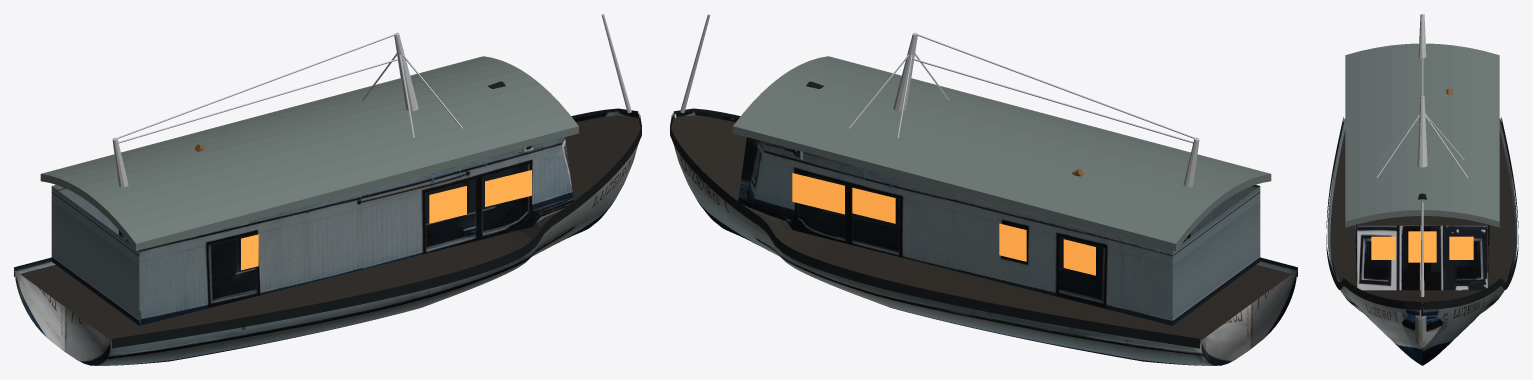
File: luzeiro.glb
3 renders of one model, left to right at view 1: azimuth 30°, elevation 25°; view 2: azimuth 150°, elevation 25°; view 3: azimuth 270°, elevation 25°, orthographic. The views are drawn at different scales.
Visible parts, largest first — view 1: teto, cabine, conves, casco, borda, vidraca.001, vidraca, mastro, estai.004, estai.005, vidraca.002; view 2: teto, cabine, conves, casco, borda.001, vidraca.003, vidraca.004, vidraca.006, vidraca.005, mastro, estai.004, estai.005; view 3: teto, cabine, conves, casco, borda, borda.001, frente.002, frente, frente.001, mastro, pau_proa, poste (+1 smaller).
Boxes of the visible parts, box(x1,y1,x2,y2) form: teto: box(40, 56, 578, 250); cabine: box(51, 137, 575, 325); conves: box(20, 115, 640, 340); casco: box(14, 111, 640, 365); borda: box(112, 113, 641, 348); vidraca.001: box(485, 170, 531, 206); vidraca: box(429, 186, 466, 223); mastro: box(394, 32, 418, 111); estai.004: box(114, 33, 396, 139); estai.005: box(118, 58, 398, 143); vidraca.002: box(241, 234, 258, 270); teto: box(733, 56, 1271, 250); cabine: box(736, 137, 1260, 325); conves: box(671, 115, 1291, 340); casco: box(671, 111, 1297, 365); borda.001: box(670, 113, 1199, 348); vidraca.003: box(792, 173, 844, 214); vidraca.004: box(852, 187, 895, 223); vidraca.006: box(1063, 239, 1095, 275); vidraca.005: box(999, 223, 1026, 261); mastro: box(893, 32, 917, 111); estai.004: box(915, 33, 1197, 139); estai.005: box(913, 58, 1193, 143); teto: box(1345, 43, 1499, 227); cabine: box(1355, 224, 1489, 301); conves: box(1330, 130, 1514, 303); casco: box(1327, 118, 1517, 365); borda: box(1326, 117, 1421, 309); borda.001: box(1423, 117, 1518, 309); frente.002: box(1408, 231, 1436, 262); frente: box(1371, 236, 1395, 259); frente.001: box(1449, 236, 1473, 259); mastro: box(1417, 95, 1427, 167); pau_proa: box(1420, 202, 1424, 296); poste: box(1418, 14, 1426, 58).
Size of the model in its own units: 0.995 by 0.4178 by 0.356.
7 materials, 1 textured.
